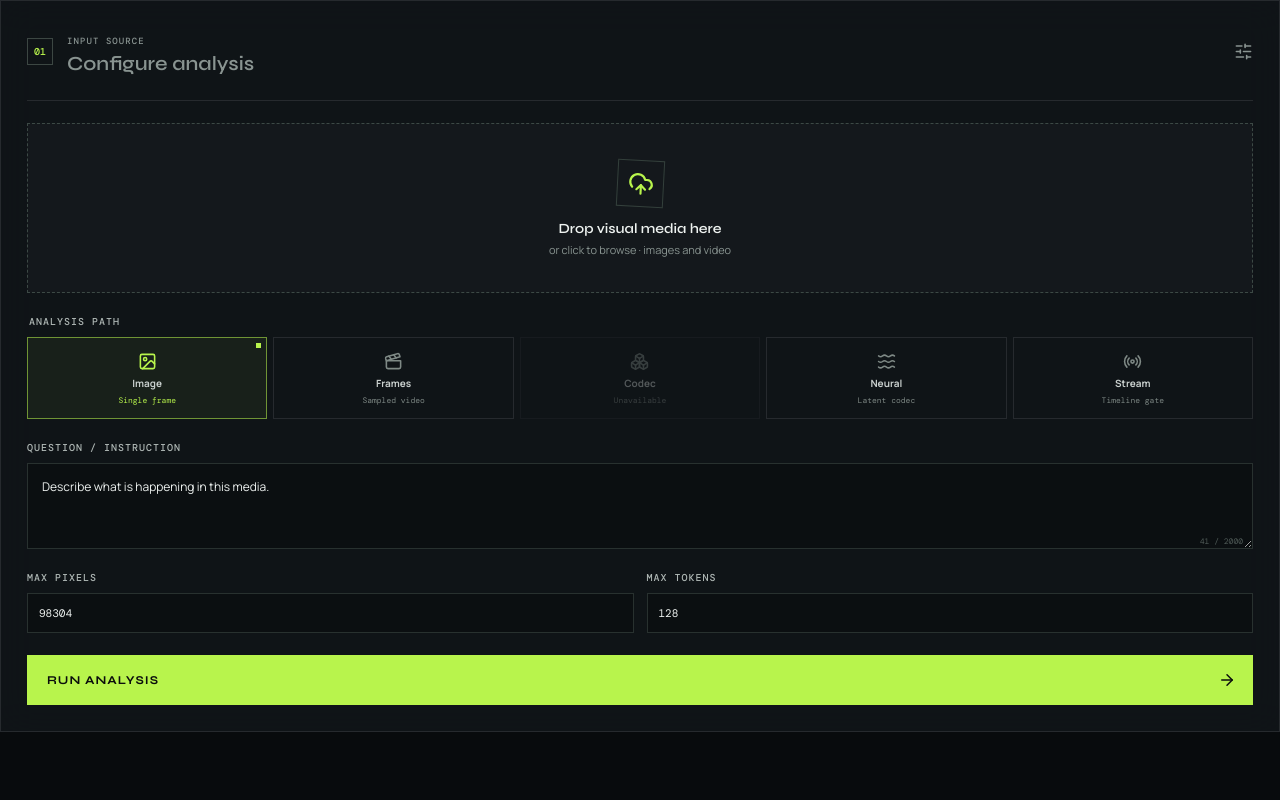
Scenario: AnalysisForm › shows controls for the selected mode
The width and height of the screenshot is (1280, 800).
Check: the field labelled "Sample frames" is not shown
Click the radio button labelled "Stream Timeline gate": [1133, 378] box [1013,337,1253,419]
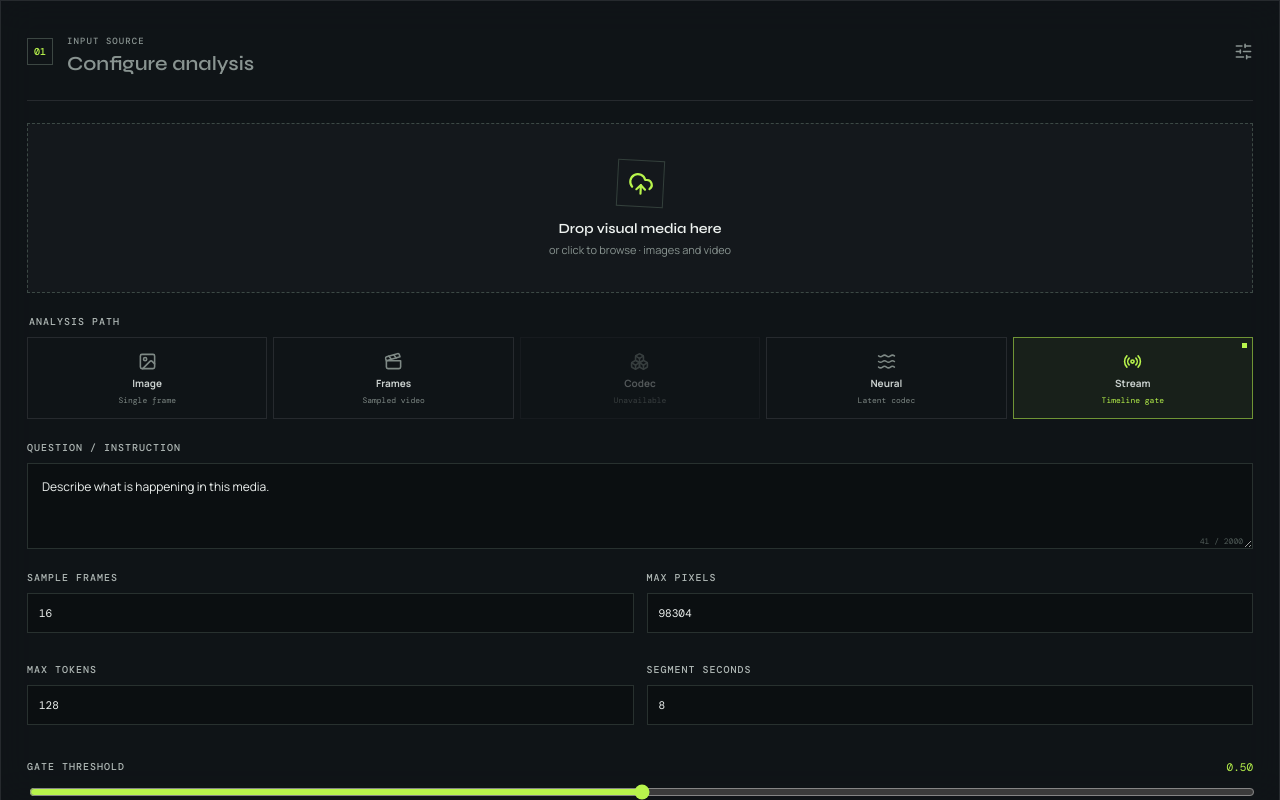
Check: the number field labelled "Sample frames" is shown, box [27,593,634,633]
Check: the number field labelled "Segment seconds" is shown, box [646,685,1253,725]
Check: the slider labelled "Gate threshold" is shown, box [29,784,1255,799]
